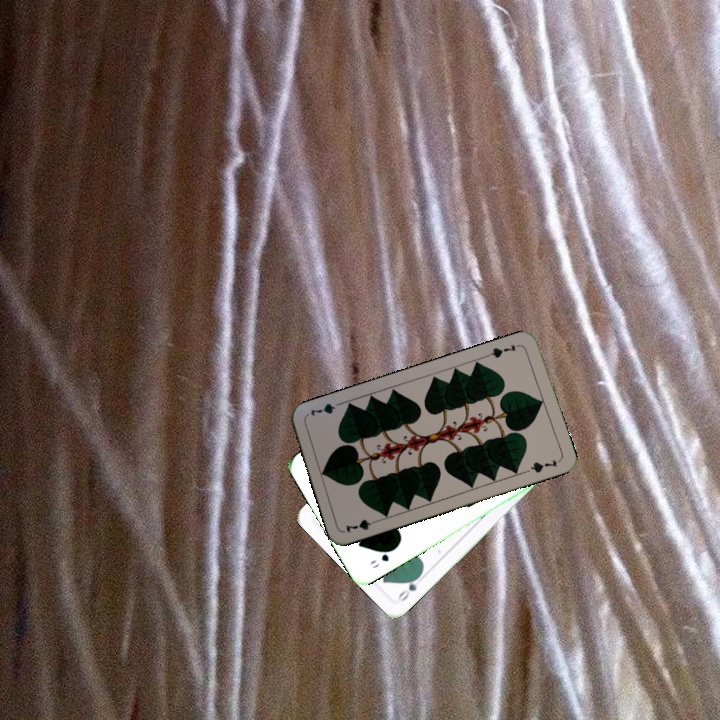G7: (483, 340, 523, 361), (341, 515, 382, 535)
GO: (394, 570, 424, 605), (366, 544, 398, 571)
